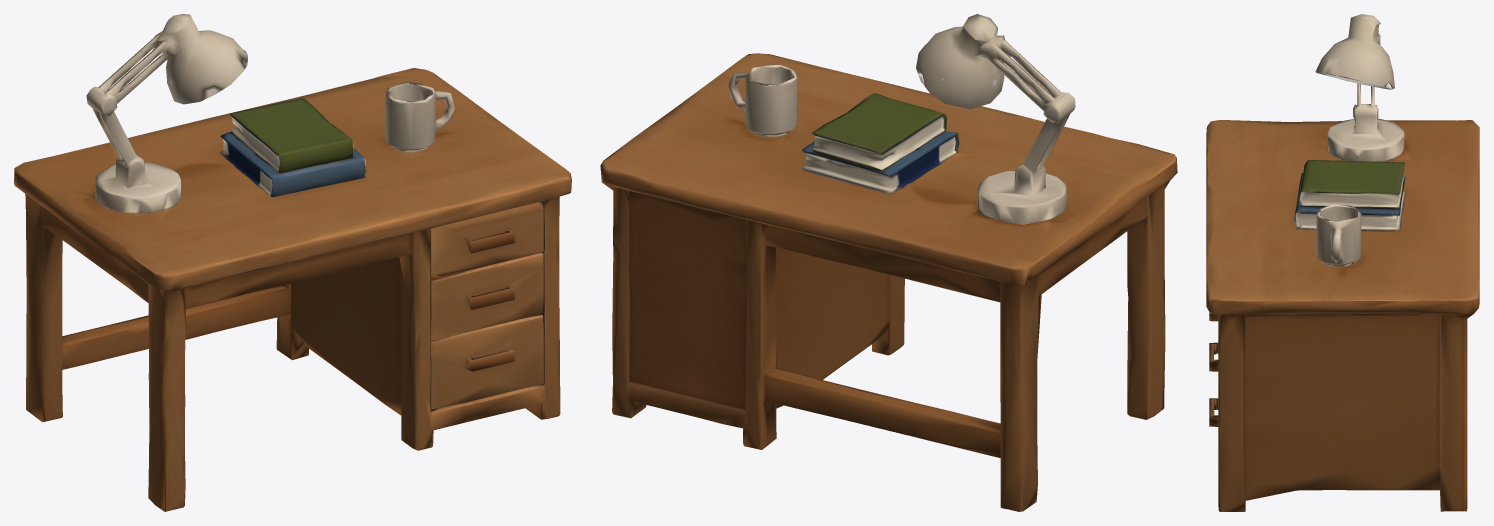
Rendered from desk.glb.
3 renders of one model, left to right at view 1: azimuth 30°, elevation 25°; view 2: azimuth 150°, elevation 25°; view 3: azimuth 270°, elevation 25°, orthographic. The views are drawn at different scales.
Parts seen in each view (by area): view 1: desk; view 2: desk; view 3: desk.
Part boxes in pixels (x1,y1,x2,y2): desk: (14,14,571,511); desk: (600,14,1177,511); desk: (1206,14,1479,511).
Bounding box in the file's own units: 1.3 × 1.23 × 0.8312.
1 material, 1 textured.
